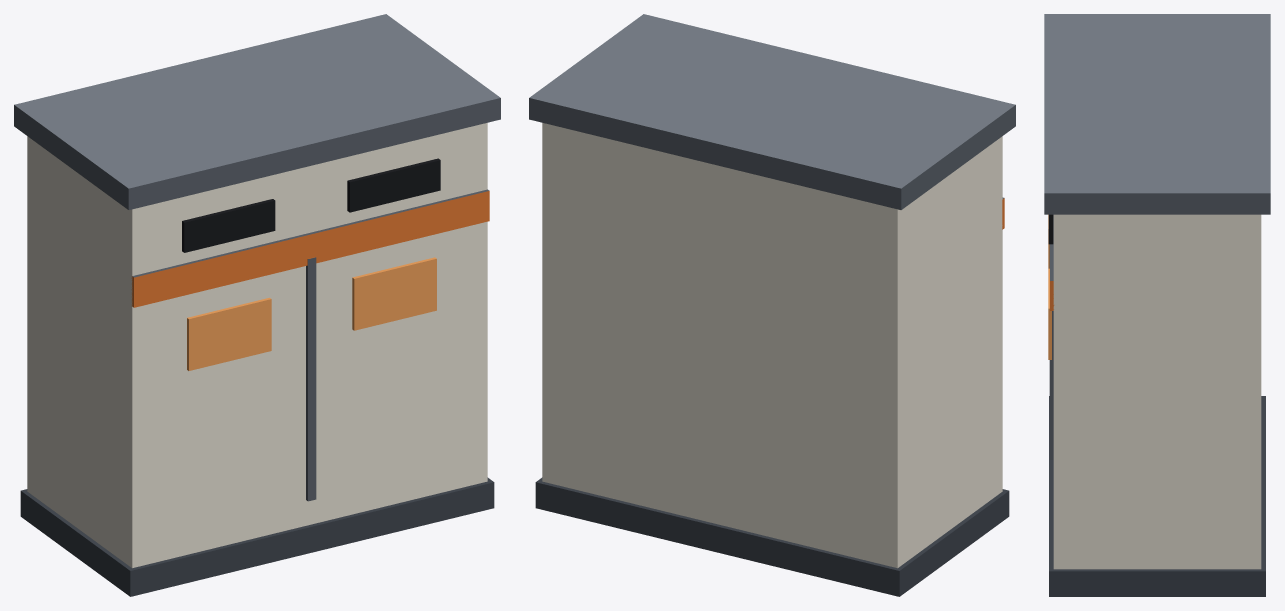
Rendered from TrashCan_ConvenienceStore.fbx.
3 views of the same model, side by side, from view 1: azimuth 30°, elevation 25°; view 2: azimuth 150°, elevation 25°; view 3: azimuth 270°, elevation 25° (orthographic).
Parts seen in each view (by area): view 1: Body.002, Lid.002, Label.002; view 2: Body.002, Lid.002; view 3: Body.002, Lid.002, Label.002.
Boxes of the visible parts, x1,y1,x2,y2 form: Body.002: [20, 123, 494, 596]; Lid.002: [14, 14, 500, 209]; Label.002: [187, 257, 436, 370]; Body.002: [535, 123, 1009, 596]; Lid.002: [529, 14, 1015, 209]; Body.002: [1048, 214, 1265, 596]; Lid.002: [1044, 14, 1270, 214]; Label.002: [1048, 215, 1051, 359].
Bounding box in the file's own units: 0.9 × 0.95 × 0.48.
